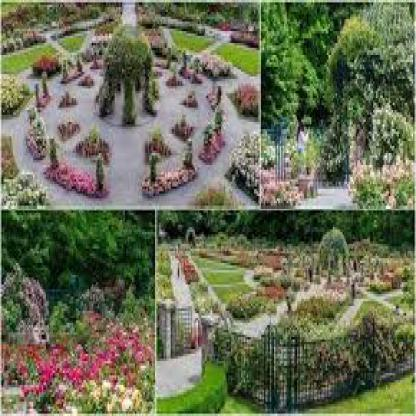Rose-Mawar: (13, 329, 153, 389)
